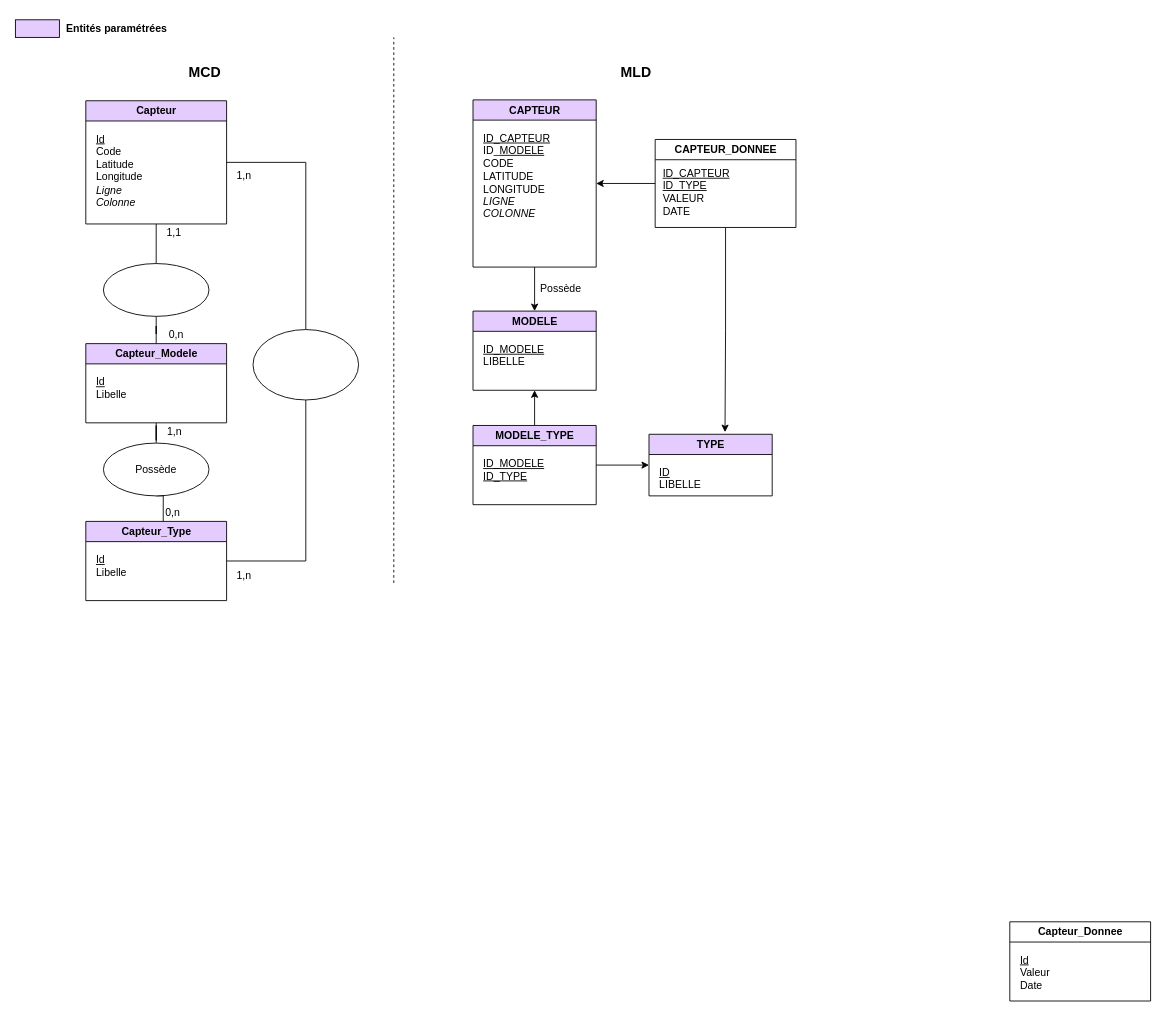
Image size: 1166x1020. Some labels were removed from this diagram. Here are the shapes that lost their labels. From the top down, the centre of each, then its label:
At (x=156, y=289): "Appartient".
At (x=305, y=364): "Émet __________________ Valeur Date".
